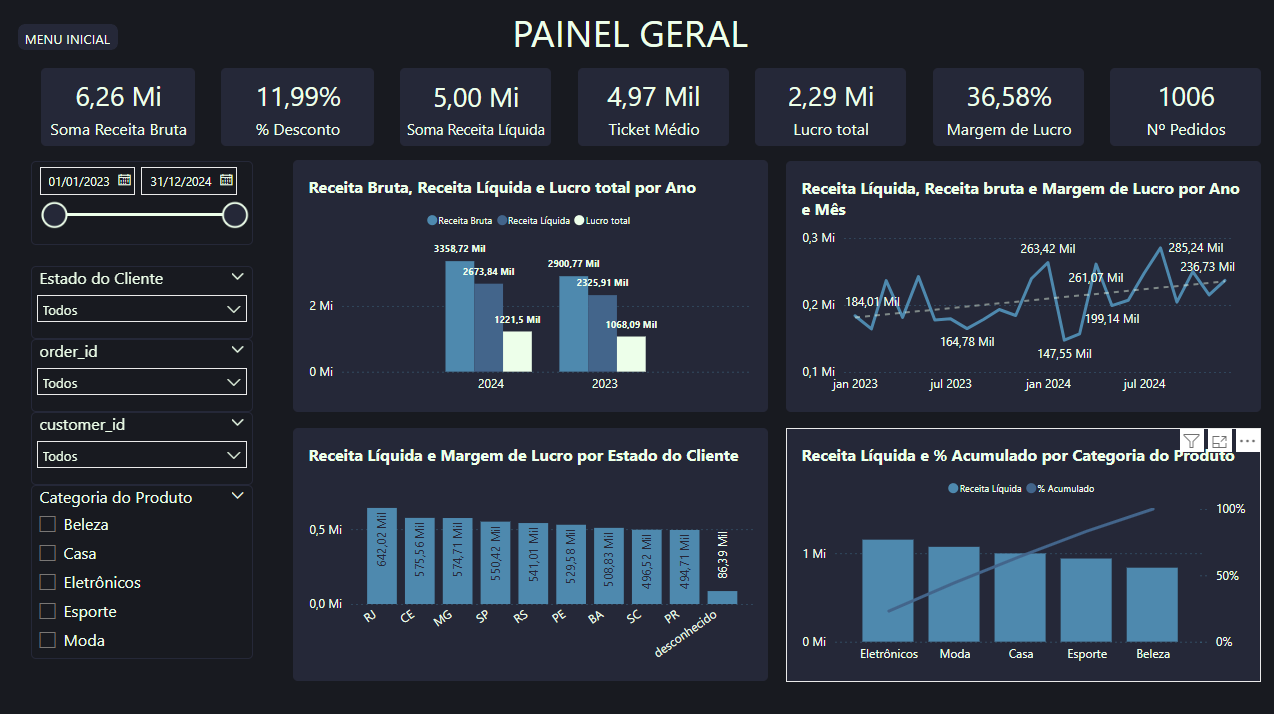

This screenshot's page, from the dashboard's own definition file:
{"tool":"powerbi","page":{"name":"Paine Geral","canvas":[1280,720],"ordinal":1},"visuals":[{"type":"card","fields":{"Values":["ShopMax.Soma Receita Bruta"]},"box":[44.5,71.1,153.1,78],"z":0},{"type":"card","fields":{"Values":["ShopMax.% Desconto"]},"box":[223.9,71.1,153.1,78],"z":1000},{"type":"card","fields":{"Values":["ShopMax.Soma Rceita Líquida"]},"box":[403.3,71.1,151.1,78],"z":2000},{"type":"card","fields":{"Values":["ShopMax.Lucro total"]},"box":[758.2,71.1,151.1,78],"z":3000},{"type":"card","fields":{"Values":["ShopMax.Margem de Lucro"]},"box":[935.6,71.1,151.1,78],"z":4000},{"type":"textbox","box":[516.5,9.7,247.1,57.4],"z":5000},{"type":"slicer","fields":{"Values":["ShopMax.order_date"]},"box":[33.6,163.9,222.2,84],"z":6000},{"type":"slicer","fields":{"Values":["ShopMax.Categoria do Produto"]},"box":[33.5,487.9,222.5,174.4],"z":7000},{"type":"slicer","fields":{"Values":["ShopMax.Estado do Cliente"]},"box":[33.6,268.6,222.2,73.1],"z":8000},{"type":"slicer","fields":{"Values":["ShopMax.order_id"]},"box":[33.6,341.7,222.2,73.1],"z":9000},{"type":"slicer","fields":{"Values":["ShopMax.customer_id"]},"box":[33.6,414.8,222.2,73.1],"z":10000},{"type":"clusteredColumnChart","fields":{"Y":["ShopMax.Soma Receita Bruta","ShopMax.Soma Rceita Líquida","ShopMax.Lucro total"],"Category":["ShopMax.Ano"]},"box":[296.3,163,475.1,251.9],"z":11000},{"type":"card","fields":{"Values":["ShopMax.Ticket Médio"]},"box":[580.7,71.1,151.1,78],"z":12000},{"type":"card","fields":{"Values":["ShopMax.Nº Pedidos"]},"box":[1113.1,71.1,151.1,78],"z":13000},{"type":"lineChart","fields":{"Category":["ShopMax.order_date.Variation.Hierarquia de datas.Ano","ShopMax.order_date.Variation.Hierarquia de datas.Mês"],"Y":["ShopMax.Soma Rceita Líquida"]},"box":[789.1,164,475.1,250.9],"z":14000},{"type":"clusteredColumnChart","fields":{"Category":["ShopMax.Estado do Cliente"],"Y":["ShopMax.Soma Receita Líquida"]},"box":[296.3,430.6,475.1,253.8],"z":15000},{"type":"lineStackedColumnComboChart","fields":{"Y":["ShopMax.Soma Receita Líquida"],"Category":["ShopMax.Categoria do Produto"],"Y2":["ShopMax.% Acumulado"]},"box":[789,431,475,254],"z":16000},{"type":"actionButton","box":[21.5,26.6,99.7,26.6],"z":17000}]}

Visuals, with their boxes in screenshot pixels (x1, y1, x2, y2), scaled from the page's 1280x720 canvas onto the 1274x714 screenshot:
card - ShopMax.Soma Receita Bruta: {"left": 44, "top": 71, "right": 197, "bottom": 148}
card - ShopMax.% Desconto: {"left": 223, "top": 71, "right": 375, "bottom": 148}
card - ShopMax.Soma Rceita Líquida: {"left": 401, "top": 71, "right": 552, "bottom": 148}
card - ShopMax.Lucro total: {"left": 755, "top": 71, "right": 905, "bottom": 148}
card - ShopMax.Margem de Lucro: {"left": 931, "top": 71, "right": 1082, "bottom": 148}
textbox: {"left": 514, "top": 10, "right": 760, "bottom": 67}
slicer - ShopMax.order_date: {"left": 33, "top": 163, "right": 255, "bottom": 246}
slicer - ShopMax.Categoria do Produto: {"left": 33, "top": 484, "right": 255, "bottom": 657}
slicer - ShopMax.Estado do Cliente: {"left": 33, "top": 266, "right": 255, "bottom": 339}
slicer - ShopMax.order_id: {"left": 33, "top": 339, "right": 255, "bottom": 411}
slicer - ShopMax.customer_id: {"left": 33, "top": 411, "right": 255, "bottom": 484}
clusteredColumnChart - ShopMax.Soma Receita Bruta x ShopMax.Soma Rceita Líquida: {"left": 295, "top": 162, "right": 768, "bottom": 411}
card - ShopMax.Ticket Médio: {"left": 578, "top": 71, "right": 728, "bottom": 148}
card - ShopMax.Nº Pedidos: {"left": 1108, "top": 71, "right": 1258, "bottom": 148}
lineChart - ShopMax.order_date.Variation.Hierarquia de datas.Ano x ShopMax.order_date.Variation.Hierarquia de datas.Mês: {"left": 785, "top": 163, "right": 1258, "bottom": 411}
clusteredColumnChart - ShopMax.Estado do Cliente x ShopMax.Soma Receita Líquida: {"left": 295, "top": 427, "right": 768, "bottom": 679}
lineStackedColumnComboChart - ShopMax.Soma Receita Líquida x ShopMax.Categoria do Produto: {"left": 785, "top": 427, "right": 1258, "bottom": 679}
actionButton: {"left": 21, "top": 26, "right": 121, "bottom": 53}
